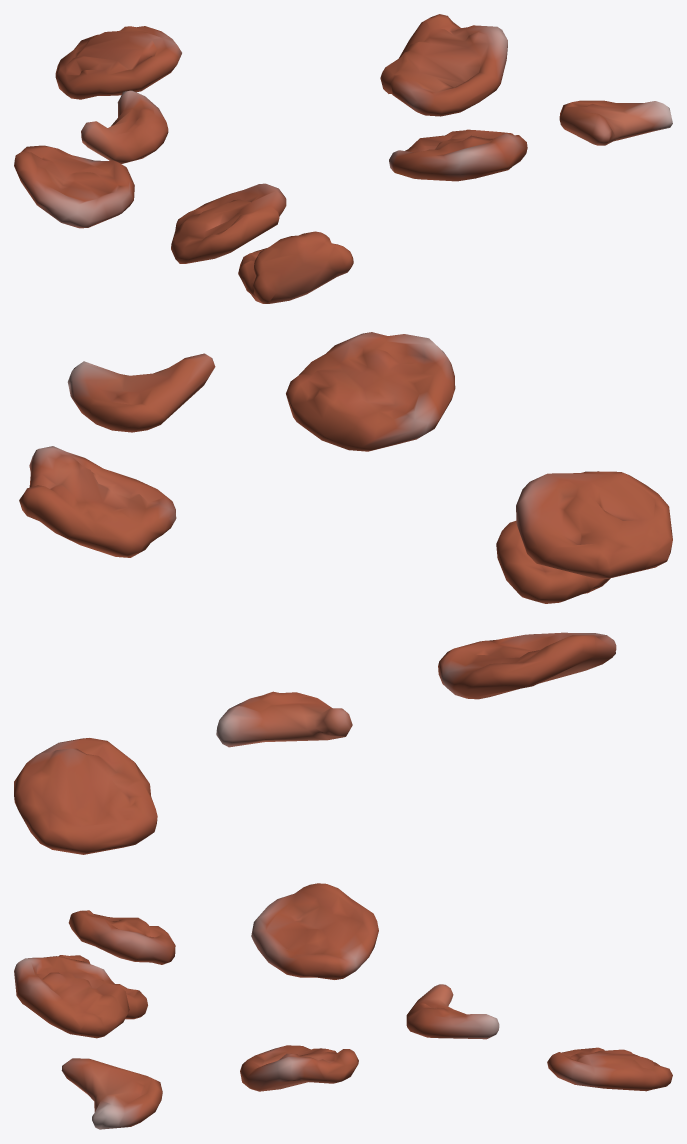
The picture shows the model from 3 angles, top to bottom: view 1: azimuth 30°, elevation 25°; view 2: azimuth 150°, elevation 25°; view 3: azimuth 270°, elevation 25°; orthographic projection. The views are drawn at different scales.
Parts seen in each view (by area): view 1: LOD 2_14118979198586646984_820756dedd5b3434c8e6bed8ae6a193b; view 2: LOD 2_14118979198586646984_820756dedd5b3434c8e6bed8ae6a193b; view 3: LOD 2_14118979198586646984_820756dedd5b3434c8e6bed8ae6a193b.
Boxes of the visible parts, x1=… form: LOD 2_14118979198586646984_820756dedd5b3434c8e6bed8ae6a193b: x1=14, y1=14, x2=672, y2=303; LOD 2_14118979198586646984_820756dedd5b3434c8e6bed8ae6a193b: x1=14, y1=332, x2=672, y2=854; LOD 2_14118979198586646984_820756dedd5b3434c8e6bed8ae6a193b: x1=14, y1=883, x2=672, y2=1129.
Size of the model in its own units: 2.56 by 0.7194 by 2.93.
